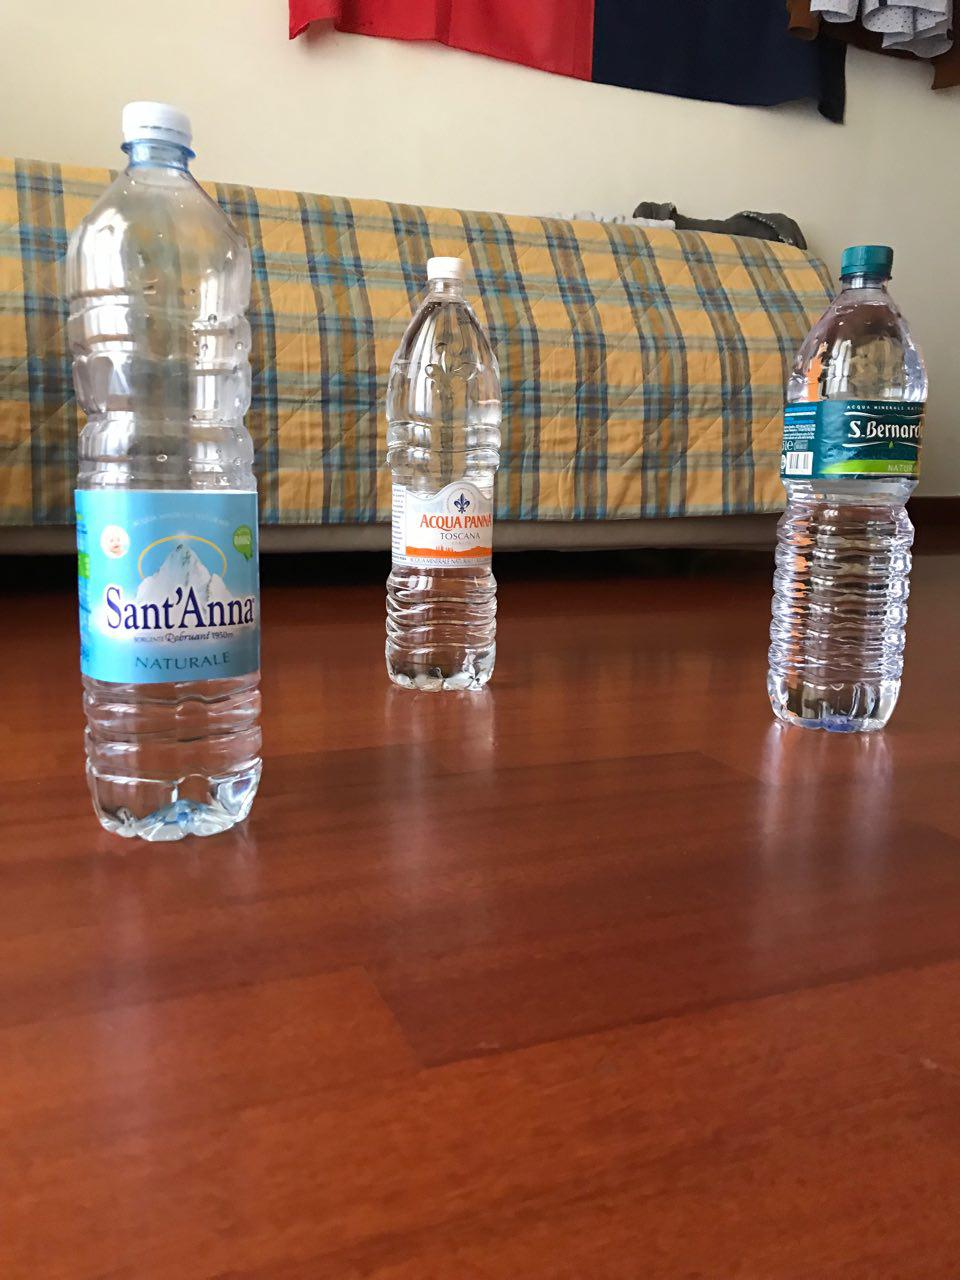san_bernardo: (765, 243, 927, 734)
